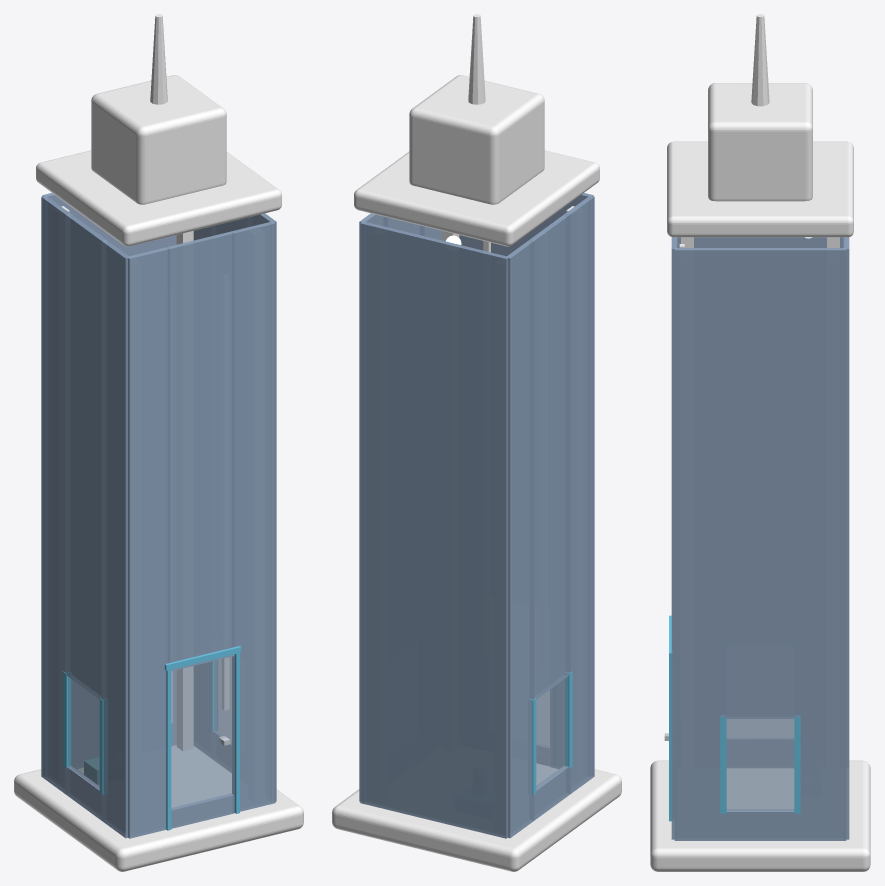
File: dark_spire.glb
3 views of the same model, side by side, from view 1: azimuth 30°, elevation 25°; view 2: azimuth 150°, elevation 25°; view 3: azimuth 270°, elevation 25° (orthographic).
Visible parts, largest first — view 1: Shell_Front_Header, Shell_Front_Side_-1, Shell_Front_Side_1, Shell_Side_-1_Header, Shell_Side_-1_End_1, Shell_Side_-1_End_-1, Original_roof, Original_metal_5, Original_metal, Door_Main_Glass, Shell_Back, Window_Right_Glass (+14 smaller); view 2: Shell_Back, Shell_Side_-1_Header, Shell_Side_-1_End_-1, Shell_Side_-1_End_1, Original_roof, Original_metal_5, Original_metal, Window_Right_Glass, Shell_Front_Side_-1, Shell_Side_1_End_-1, Shell_Side_-1_Sill, Original_emissive_2 (+3 smaller); view 3: Shell_Side_1_Header, Shell_Side_1_End_-1, Shell_Side_1_End_1, Original_roof, Original_metal_5, Original_metal, Window_Left_Glass, Walkable_Interior_Floor, Shell_Front_Side_1, Shell_Back, Shell_Side_1_Sill, Shell_Side_-1_Sill (+6 smaller).
Boxes of the visible parts, x1=… form: Shell_Front_Header: x1=168, y1=231, x2=234, y2=671; Shell_Front_Side_-1: x1=127, y1=247, x2=170, y2=838; Shell_Front_Side_1: x1=232, y1=222, x2=275, y2=812; Shell_Side_-1_Header: x1=65, y1=213, x2=105, y2=699; Shell_Side_-1_End_1: x1=101, y1=240, x2=129, y2=838; Shell_Side_-1_End_-1: x1=41, y1=196, x2=69, y2=793; Original_roof: x1=91, y1=75, x2=226, y2=204; Original_metal_5: x1=36, y1=150, x2=281, y2=246; Original_metal: x1=14, y1=769, x2=303, y2=871; Door_Main_Glass: x1=171, y1=656, x2=234, y2=810; Shell_Back: x1=42, y1=193, x2=176, y2=776; Window_Right_Glass: x1=68, y1=677, x2=99, y2=789; Shell_Back: x1=360, y1=221, x2=508, y2=838; Shell_Side_-1_Header: x1=530, y1=213, x2=570, y2=699; Shell_Side_-1_End_-1: x1=506, y1=240, x2=534, y2=838; Shell_Side_-1_End_1: x1=566, y1=196, x2=594, y2=793; Original_roof: x1=409, y1=75, x2=544, y2=204; Original_metal_5: x1=354, y1=150, x2=599, y2=246; Original_metal: x1=332, y1=763, x2=621, y2=871; Window_Right_Glass: x1=536, y1=677, x2=567, y2=789; Shell_Front_Side_-1: x1=550, y1=193, x2=593, y2=776; Shell_Side_1_End_-1: x1=359, y1=213, x2=388, y2=801; Shell_Side_-1_Sill: x1=534, y1=766, x2=570, y2=820; Original_emissive_2: x1=468, y1=14, x2=485, y2=104; Shell_Side_1_Header: x1=723, y1=248, x2=797, y2=718; Shell_Side_1_End_-1: x1=797, y1=248, x2=846, y2=840; Shell_Side_1_End_1: x1=674, y1=248, x2=723, y2=840; Original_roof: x1=708, y1=83, x2=812, y2=201; Original_metal_5: x1=667, y1=141, x2=853, y2=237; Original_metal: x1=650, y1=760, x2=870, y2=871; Window_Left_Glass: x1=726, y1=719, x2=794, y2=811; Walkable_Interior_Floor: x1=727, y1=768, x2=793, y2=808; Shell_Front_Side_1: x1=671, y1=237, x2=677, y2=839; Shell_Back: x1=843, y1=237, x2=849, y2=839; Shell_Side_1_Sill: x1=723, y1=809, x2=797, y2=840; Shell_Side_-1_Sill: x1=727, y1=738, x2=793, y2=767.
Bounding box in the file's own units: 1.72 × 7 × 1.72.
